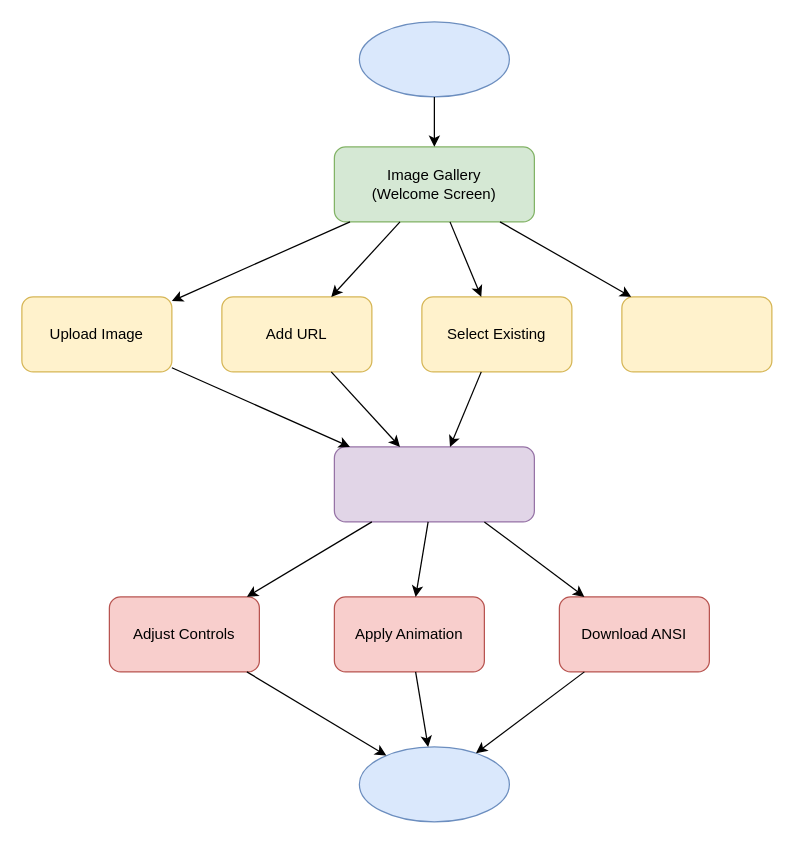
Image size: 794x844. Some labels were removed from this diagram. The centre of each missing label's shape, as x and y in pixels:
ANSI Conversion: the point at 433,484
Settings: the point at 696,334
Start: the point at 433,59
View Result: the point at 433,784
